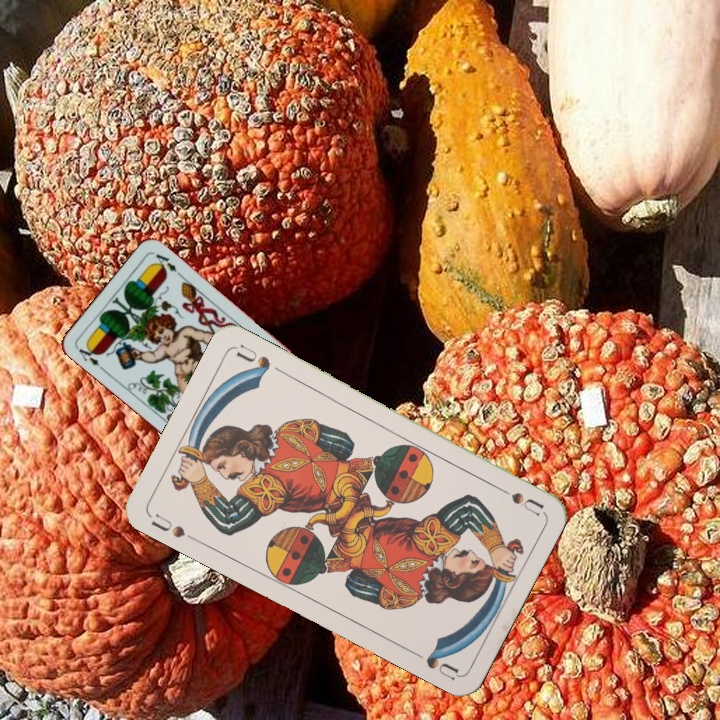EA: (73, 340, 107, 374)
SU: (489, 480, 546, 519), (147, 509, 188, 541)
